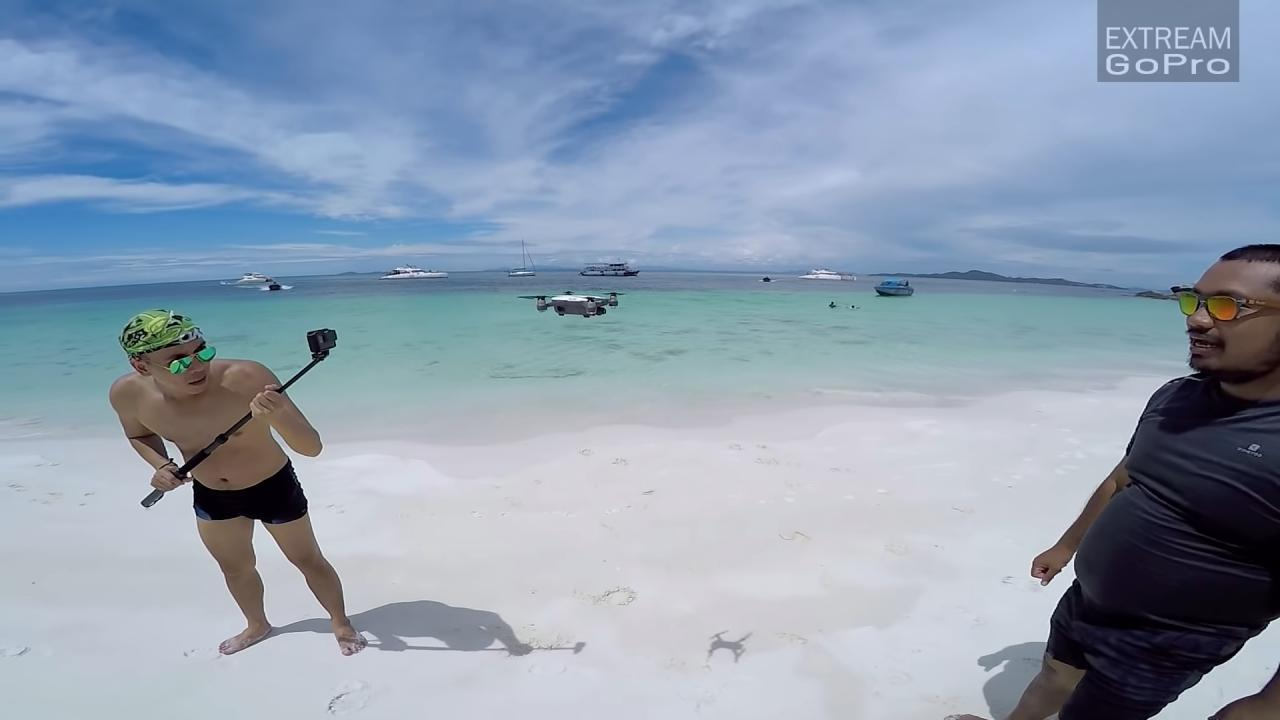Drone: (510, 278, 639, 334)
